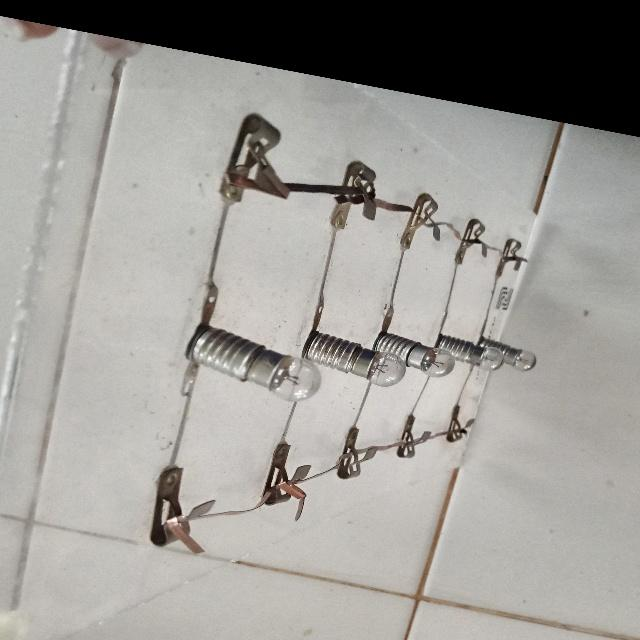Set of Resistors and Bulbs: (115, 122, 616, 628)
